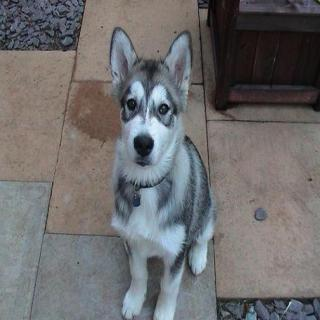dog: (103, 21, 202, 186)
nose: (132, 131, 156, 158)
